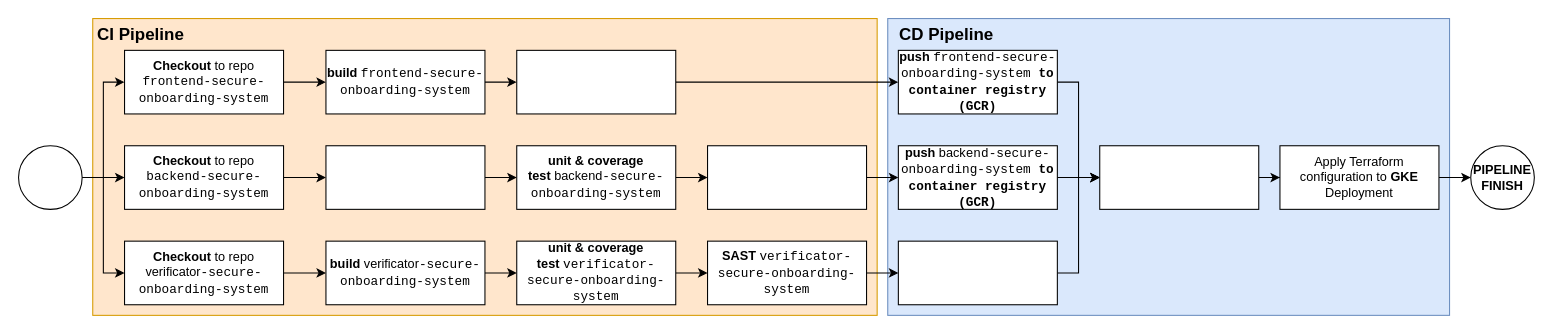
Image size: 1553x334. Some labels were removed from this diagram. The centre of each missing label's shape, as x and y in pixels:
build backend-secure-onboarding-system: pixel 405 177
Checkout Terraform Configuration from ops -secure-onboarding-system: pixel 1179 177
PIPELINE START: pixel 49 177
push verificator -secure-onboarding-system to container registry (GCR): pixel 977 272
SAST back end-secure-onboarding-system: pixel 786 177
unit & coverage test frontend-secure-onboarding-system: pixel 596 81
